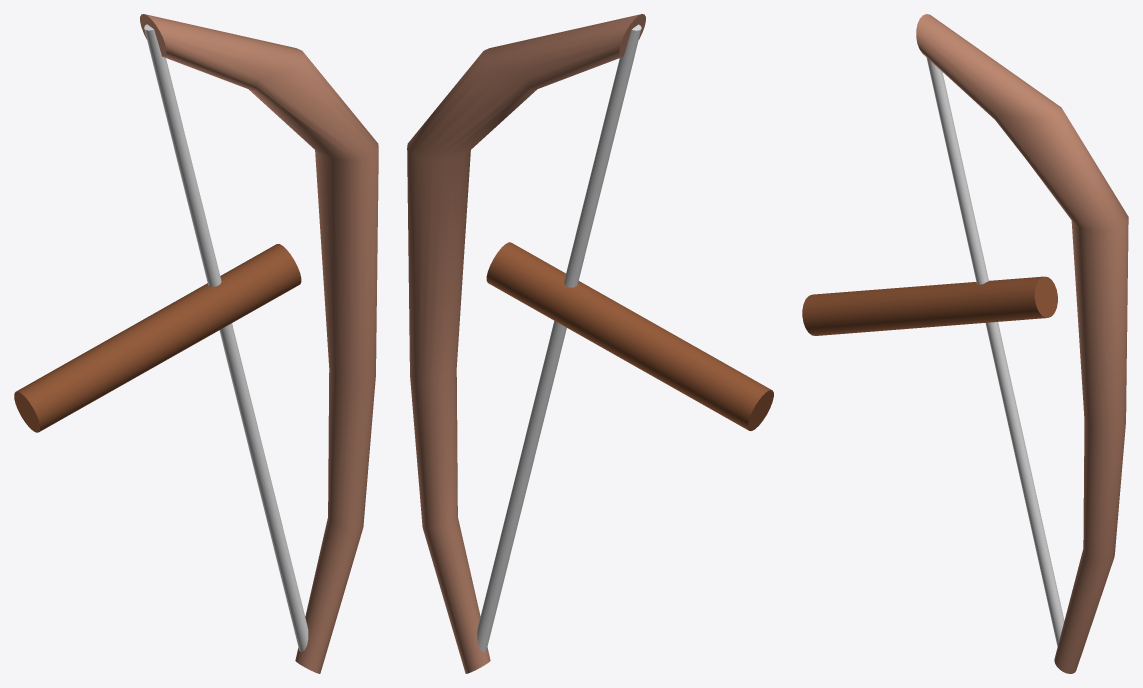
The model's file is BowDrill.fbx.
The picture shows the model from 3 angles, left to right: view 1: azimuth 30°, elevation 25°; view 2: azimuth 150°, elevation 25°; view 3: azimuth 330°, elevation 25°; orthographic projection. The views are drawn at different scales.
Visible parts, largest first — view 1: BowDrill; view 2: BowDrill; view 3: BowDrill.
Boxes of the visible parts, x1,y1,x2,y2 form: BowDrill: [14, 14, 378, 673]; BowDrill: [407, 14, 773, 673]; BowDrill: [802, 14, 1128, 673].
Size of the model in its own units: 2.41 by 4.54 by 0.3815.
